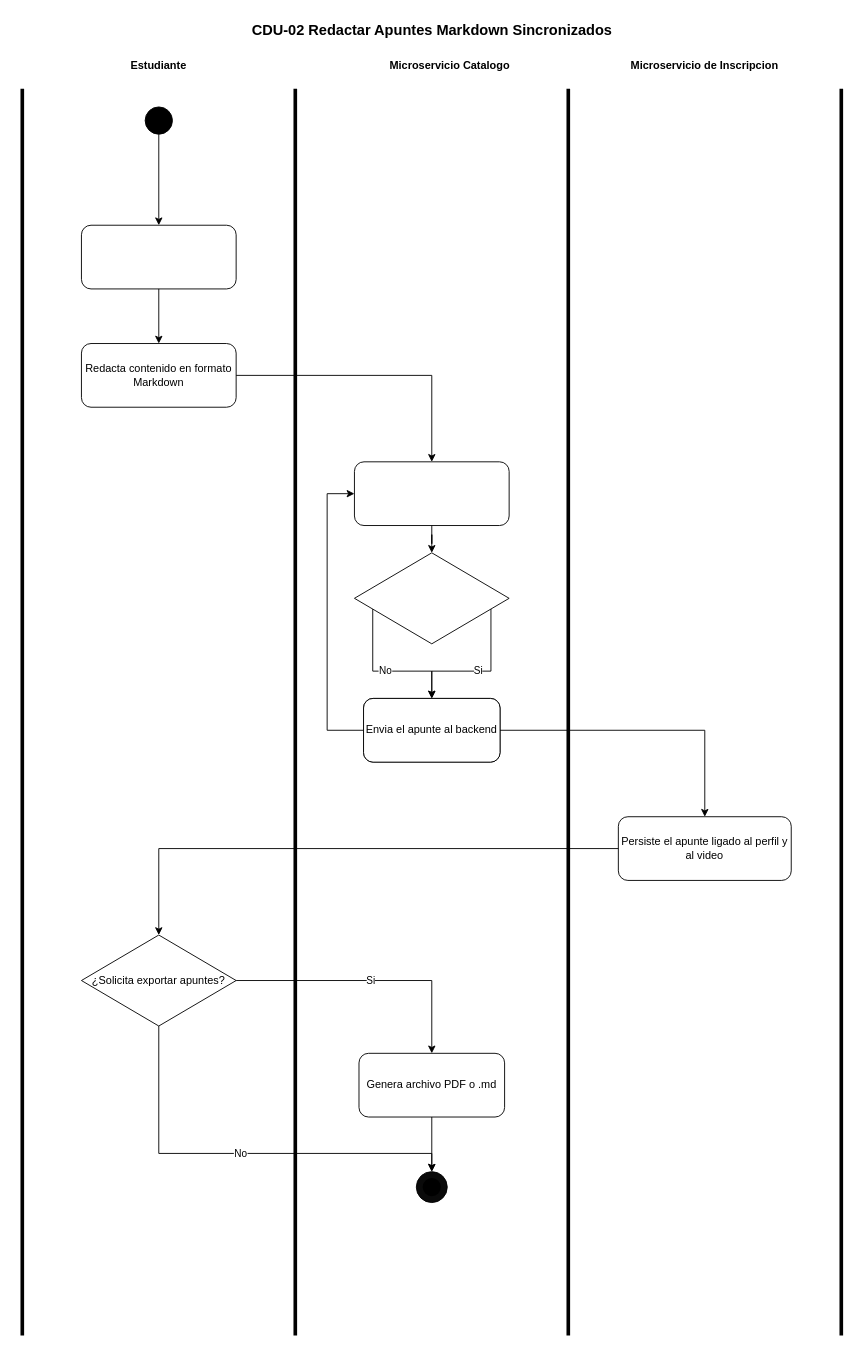
The diagram is 863 pixels wide and 1352 high, and some of its shapes have lost their labels. The box of each missing label's shape, as (x1, y1, x2, y2) in pixels:
Abre el panel de apuntes de la clase: (81, 224, 236, 289)
Inserta referencia de tiempo [MM:SS]: (354, 461, 509, 526)
¿Formato de tiempo valido?: (354, 552, 509, 644)
